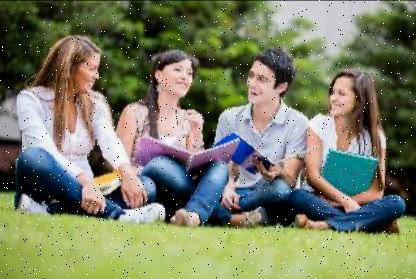person: (12, 28, 128, 222), (291, 62, 406, 249), (201, 44, 311, 229), (114, 43, 212, 236)
